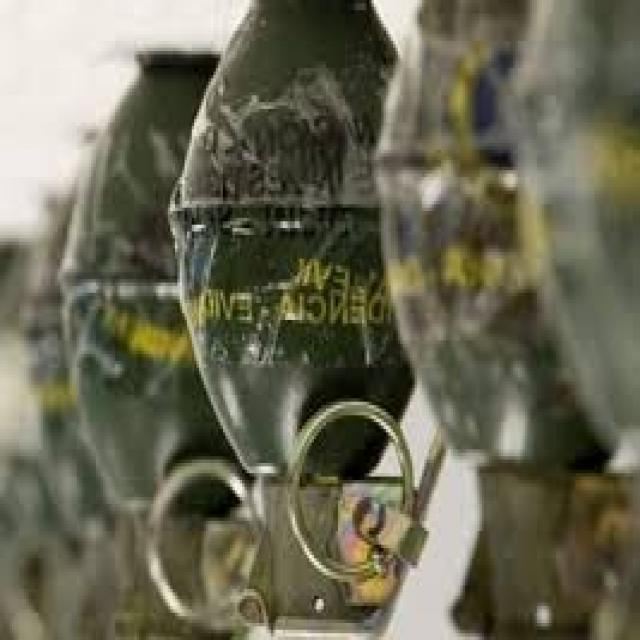grenade: (169, 8, 456, 640)
